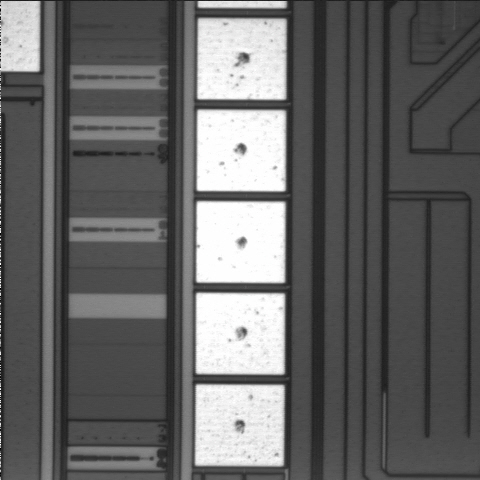pad: (197, 18, 286, 100), (196, 201, 285, 283), (197, 110, 286, 191), (196, 293, 285, 374), (195, 385, 284, 466)
